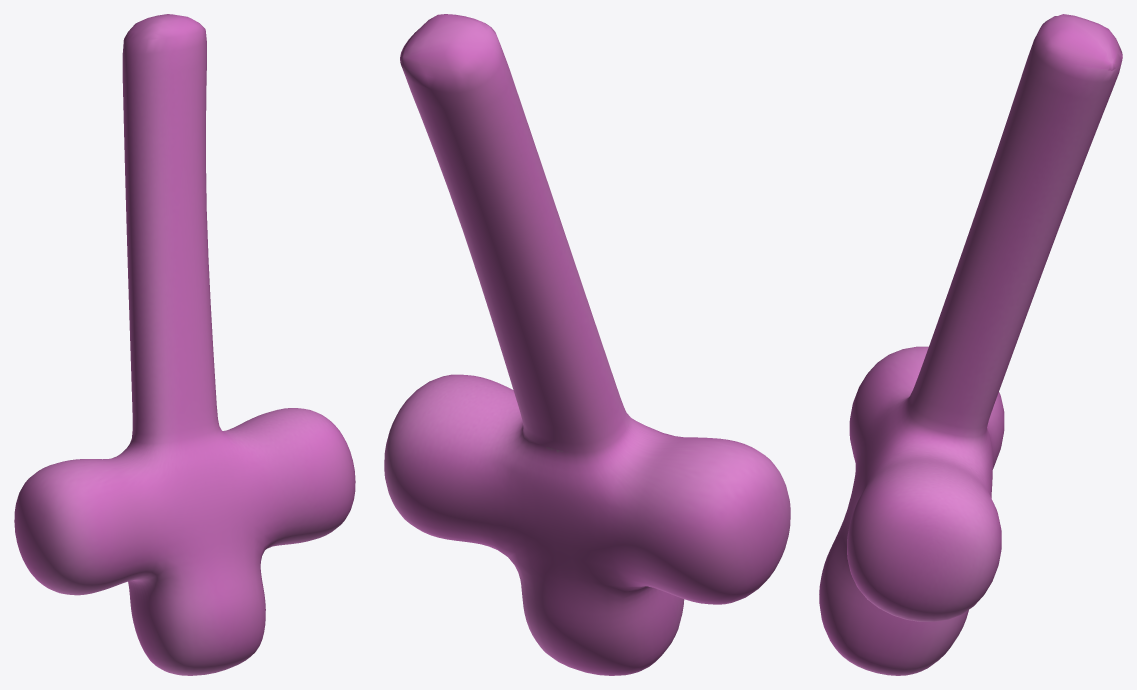
The model's file is manoIzq.obj.
The picture shows the model from 3 angles, left to right: view 1: azimuth 30°, elevation 25°; view 2: azimuth 150°, elevation 25°; view 3: azimuth 270°, elevation 25°; orthographic projection. The views are drawn at different scales.
Parts seen in each view (by area): view 1: courage.001; view 2: courage.001; view 3: courage.001.
Part boxes in pixels (x1,y1,x2,y2): courage.001: (14, 14, 355, 675); courage.001: (384, 14, 790, 675); courage.001: (819, 14, 1122, 675).
Bounding box in the file's own units: 0.8721 × 1.56 × 0.6404.
